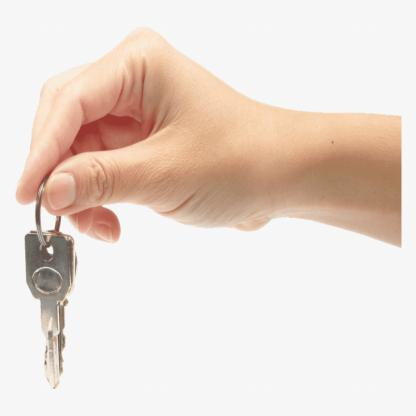keys: (20, 226, 85, 393)
